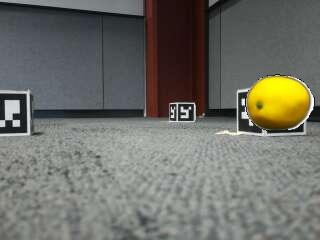lemon: (247, 77, 310, 129)
